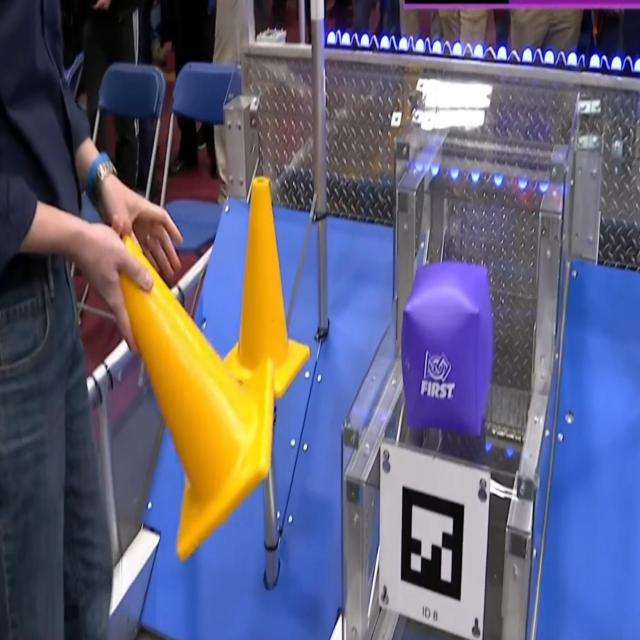frc_cone: (114, 236, 295, 564), (215, 178, 310, 404)
frc_cube: (402, 263, 494, 436)
